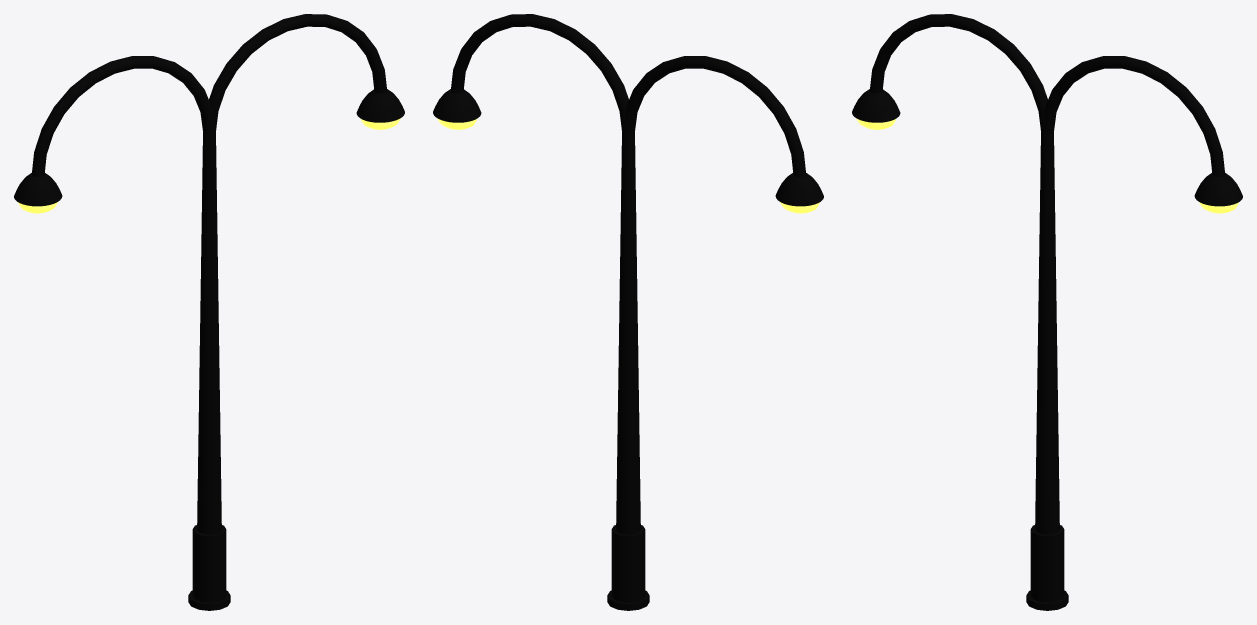
The model's file is lamp_2.glb.
3 views of the same model, side by side, from view 1: azimuth 30°, elevation 25°; view 2: azimuth 150°, elevation 25°; view 3: azimuth 330°, elevation 25° (orthographic).
Parts seen in each view (by area): view 1: lamp_2; view 2: lamp_2; view 3: lamp_2.
Boxes of the visible parts, x1=… form: lamp_2: x1=14, y1=14, x2=404, y2=610; lamp_2: x1=433, y1=14, x2=823, y2=610; lamp_2: x1=852, y1=14, x2=1242, y2=610.
Size of the model in its own units: 2.54 by 3.56 by 0.2687.
